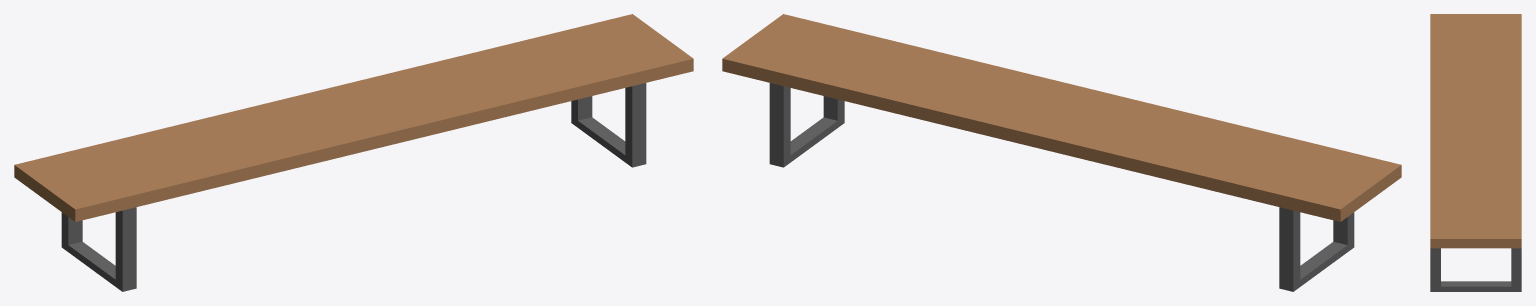
Rendered from Street_Chair.FBX.
3 views of the same model, side by side, from view 1: azimuth 30°, elevation 25°; view 2: azimuth 150°, elevation 25°; view 3: azimuth 270°, elevation 25° (orthographic). The views are drawn at different scales.
Visible parts, largest first — view 1: Box001; view 2: Box001; view 3: Box001.
Part boxes in pixels (x1=…): Box001: x1=14, y1=14, x2=693, y2=291; Box001: x1=722, y1=14, x2=1401, y2=291; Box001: x1=1430, y1=14, x2=1521, y2=291.
Size of the model in its own units: 221 by 32.1 by 37.8.
